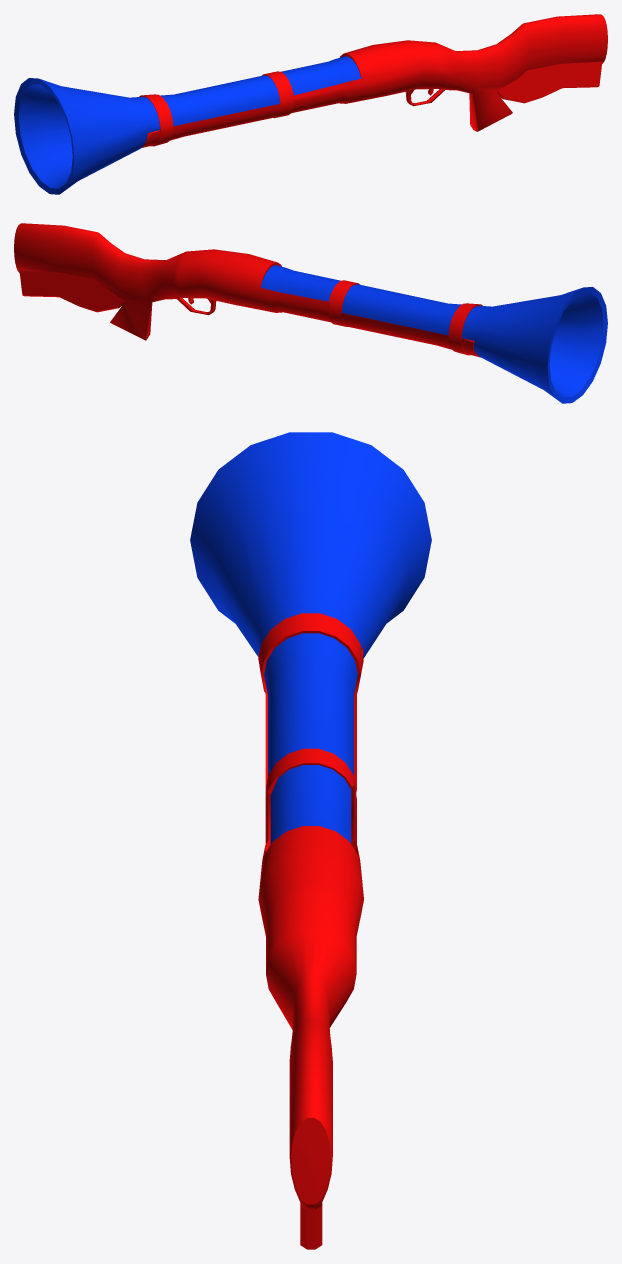
File: Weapon_Blunderbuss.FBX
The picture shows the model from 3 angles, top to bottom: view 1: azimuth 30°, elevation 25°; view 2: azimuth 150°, elevation 25°; view 3: azimuth 270°, elevation 25°; orthographic projection. The views are drawn at different scales.
Visible parts, largest first — view 1: Grip, Loop; view 2: Grip, Loop; view 3: Loop, Grip.
Part boxes in pixels (<box>): Grip: <box>139,14,607,147</box>; Loop: <box>14,56,360,194</box>; Grip: <box>14,223,482,357</box>; Loop: <box>261,265,607,403</box>; Loop: <box>190,432,431,846</box>; Grip: <box>258,613,363,1249</box>.
Bounding box in the file's own units: 67.32 × 17.73 × 12.6.
